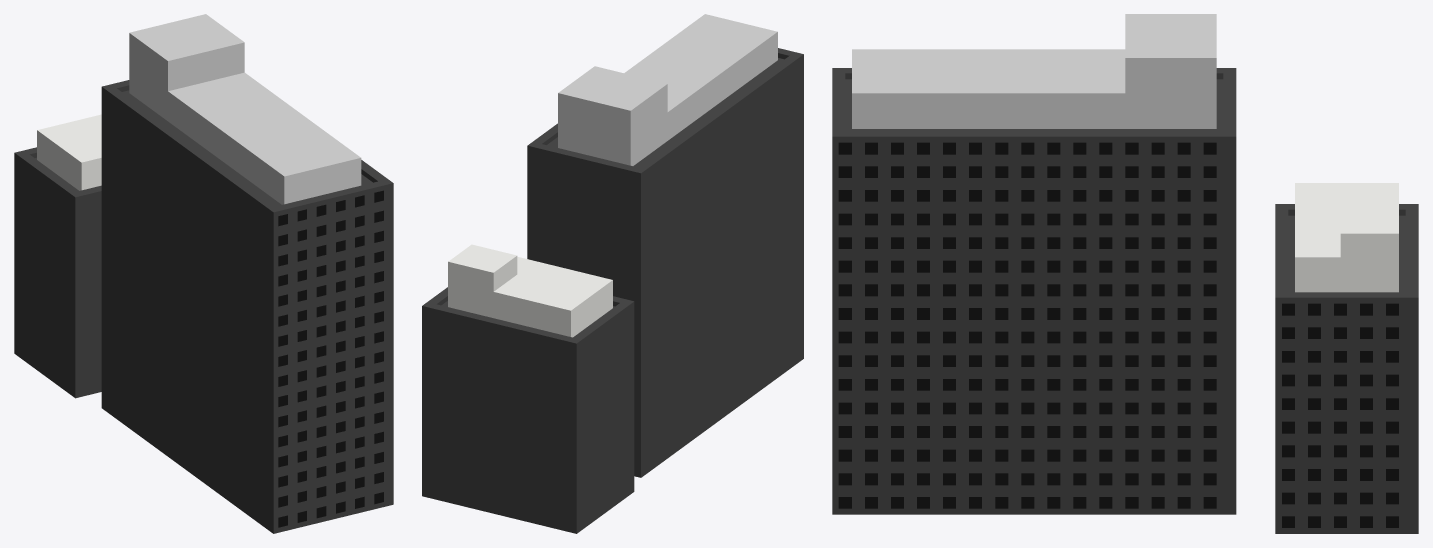
File: background-2.obj
3 renders of one model, left to right at view 1: azimuth 30°, elevation 25°; view 2: azimuth 150°, elevation 25°; view 3: azimuth 270°, elevation 25°, orthographic. The views are drawn at different scales.
Visible parts, largest first — view 1: background-2; view 2: background-2; view 3: background-2.
Part boxes in pixels (x1=…): background-2: x1=14, y1=14, x2=393, y2=533; background-2: x1=422, y1=14, x2=803, y2=533; background-2: x1=832, y1=14, x2=1418, y2=533.
Bounding box in the file's own units: 34 × 75 × 90.
1 material, 1 textured.
